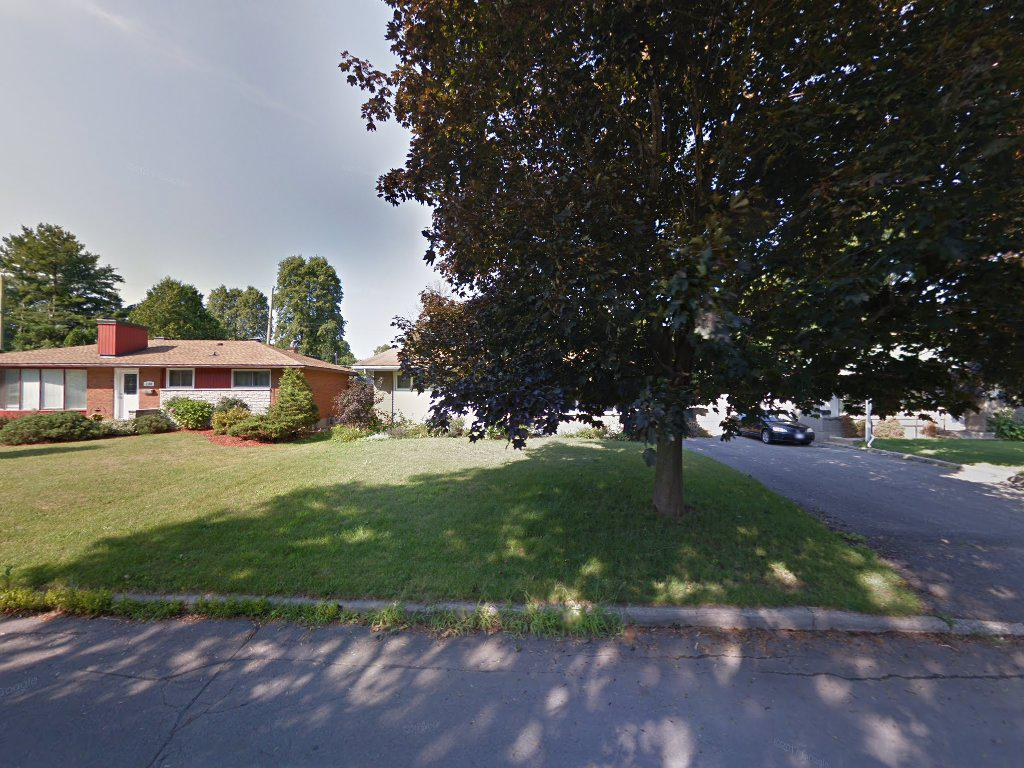trunk: (651, 377, 689, 535)
